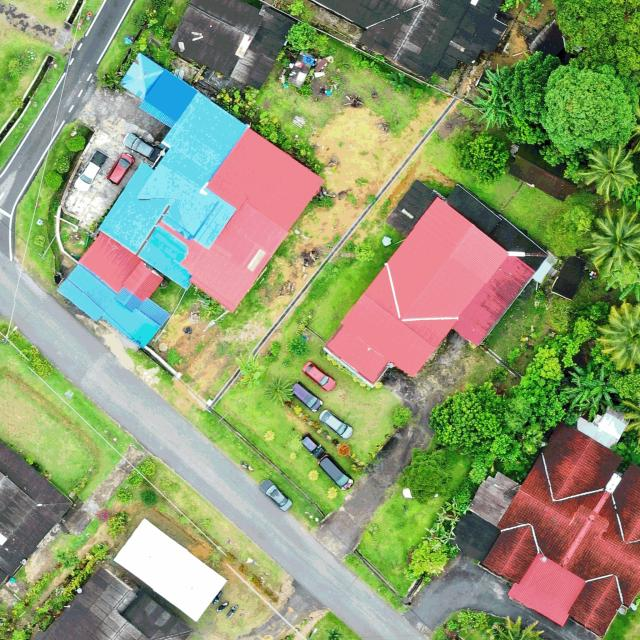Tree: (542, 53, 636, 159), (552, 0, 640, 77), (505, 51, 562, 145), (429, 381, 503, 451), (581, 203, 640, 272), (560, 359, 618, 424), (581, 141, 640, 201), (596, 301, 640, 372), (459, 130, 510, 182), (402, 448, 448, 504), (403, 540, 448, 581), (470, 86, 510, 131), (284, 20, 332, 56), (479, 64, 511, 108), (489, 616, 544, 640), (235, 352, 266, 389), (263, 375, 295, 404)
